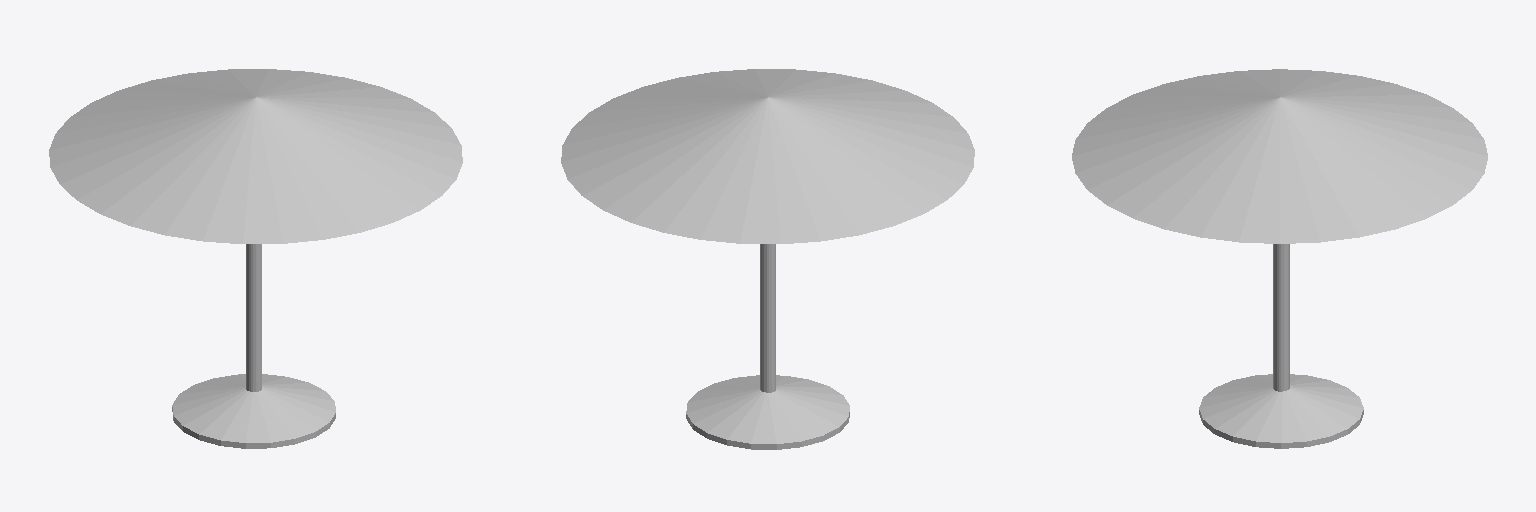
The model's file is palapa.obj.
3 renders of one model, left to right at view 1: azimuth 30°, elevation 25°; view 2: azimuth 150°, elevation 25°; view 3: azimuth 270°, elevation 25°, orthographic.
Parts seen in each view (by area): view 1: Cone_Material.003; view 2: Cone_Material.003; view 3: Cone_Material.003.
Part boxes in pixels (left/top/right/bottom): Cone_Material.003: left=49, top=69, right=462, bottom=448; Cone_Material.003: left=561, top=69, right=974, bottom=449; Cone_Material.003: left=1072, top=69, right=1487, bottom=448.
Bounding box in the file's own units: 10.05 × 8.49 × 10.11.